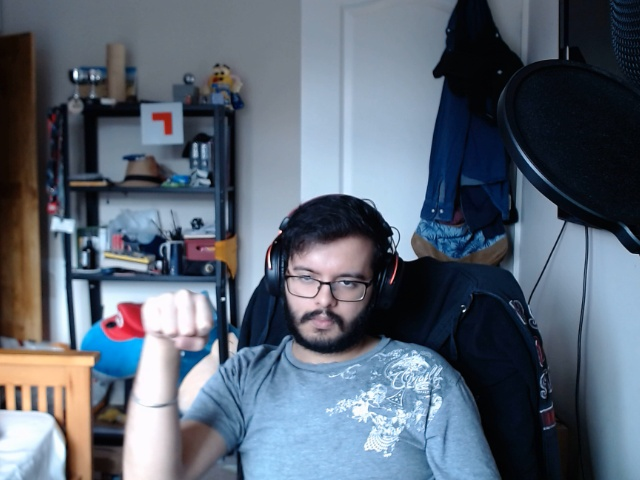Yes: (126, 286, 220, 350)
